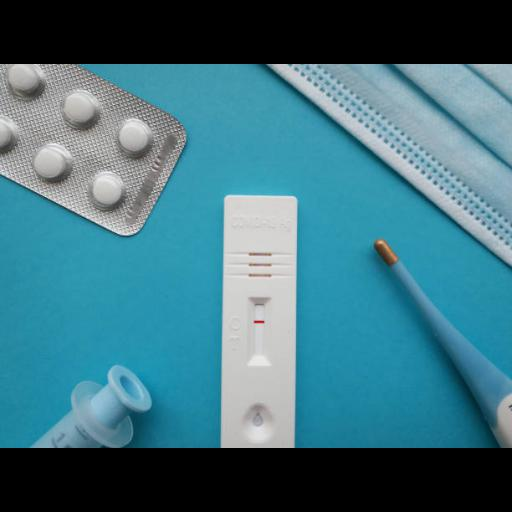Neg: (224, 196, 298, 446)
